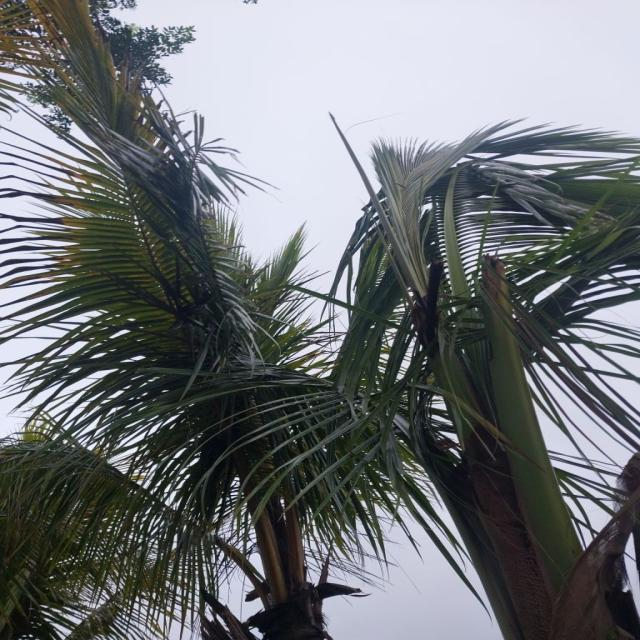bud root dropping: (327, 122, 638, 640)
